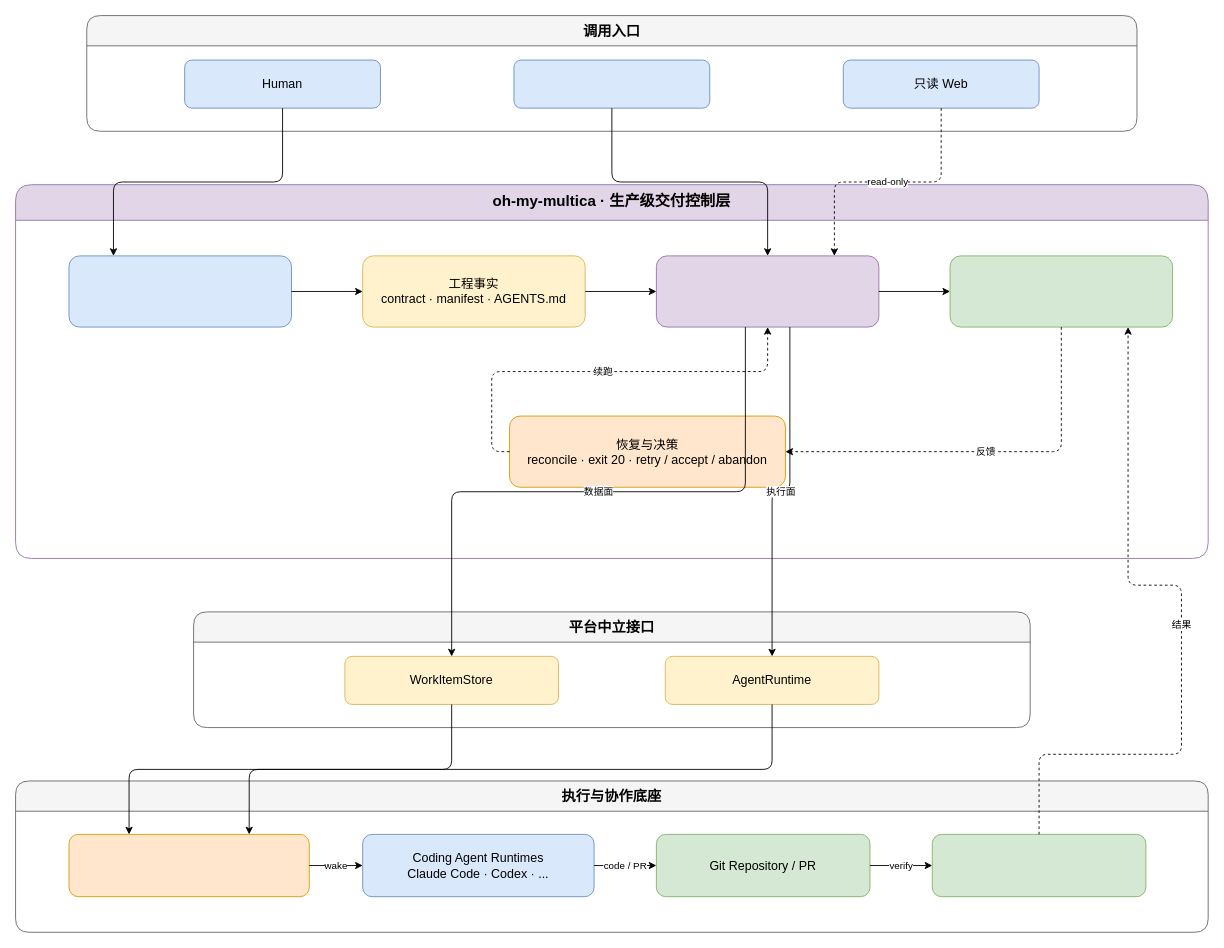
This 1224x948 diagram has some shape labels left out. The centre of each missing label's shape, as x and y in pixels:
CI / Tests: the point at 1038,865
Controller Agent / CI: the point at 611,83
Multica workspace · issue · agent · skill · runtime: the point at 188,865
确定性 Loop collect_results · ready_nodes · dispatch: the point at 767,291
计划流水线 设计 · 验收 · DAG 拆解: the point at 179,291
质量与交付门 evidence · CI · review · merge · acceptance: the point at 1061,291
